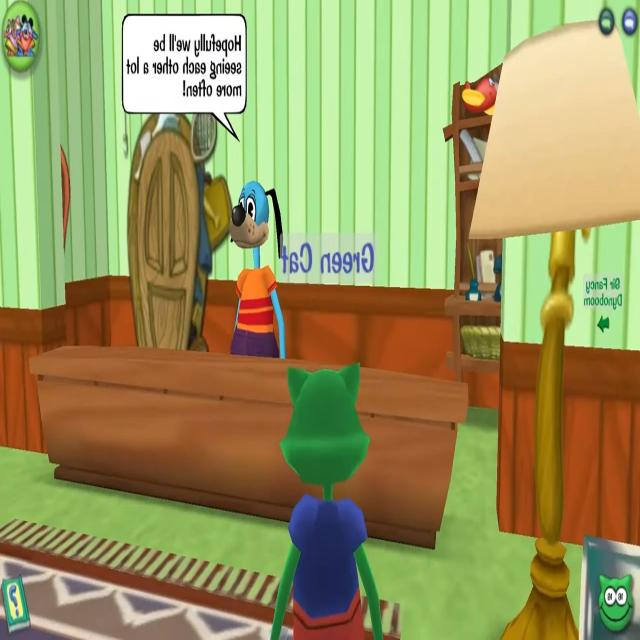npc: (219, 157, 295, 381)
